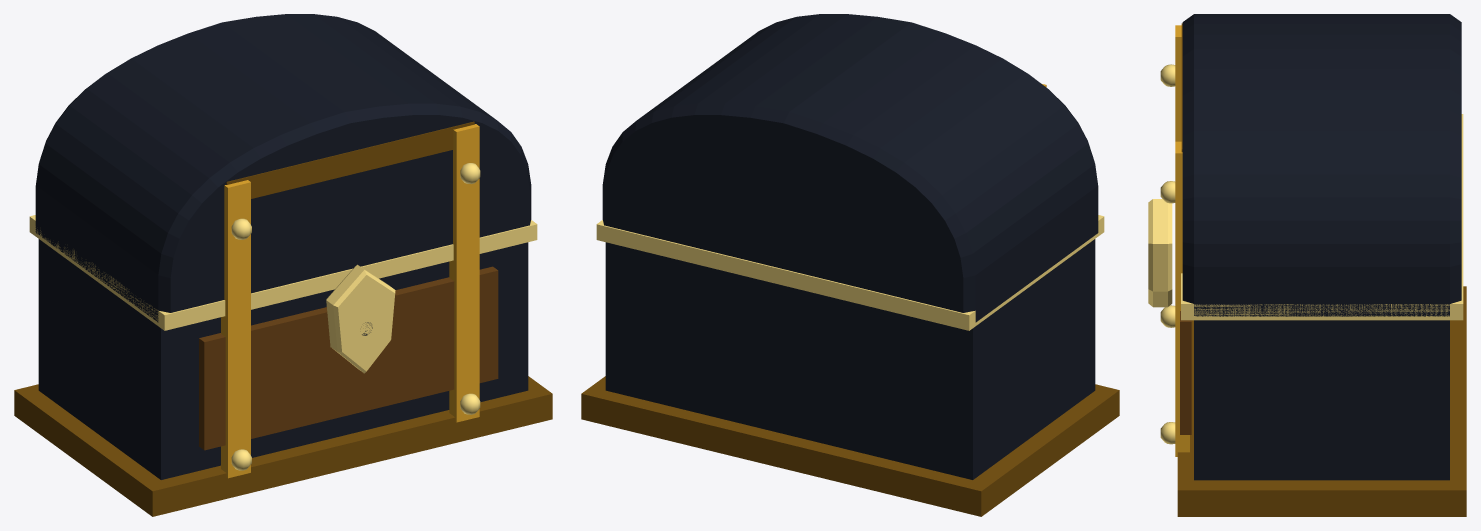
The model's file is reward-chest-low.glb.
3 renders of one model, left to right at view 1: azimuth 30°, elevation 25°; view 2: azimuth 150°, elevation 25°; view 3: azimuth 270°, elevation 25°, orthographic. The views are drawn at different scales.
Visible parts, largest first — view 1: Genuine extruded arched lid, Rectangular chest base, Inset front panel, Low gold chest plinth, Right vertical gold strap, Left vertical gold strap, Lid and box gold seam, Blank shield-shaped chest latch, Raised lid panel; view 2: Genuine extruded arched lid, Rectangular chest base, Low gold chest plinth, Lid and box gold seam; view 3: Genuine extruded arched lid, Rectangular chest base, Low gold chest plinth, Lid and box gold seam, Blank shield-shaped chest latch, Right vertical gold strap, Inset front panel, Left vertical gold strap.
Boxes of the visible parts, x1=… form: Genuine extruded arched lid: x1=35, y1=14, x2=531, y2=322; Rectangular chest base: x1=38, y1=239, x2=528, y2=479; Inset front panel: x1=199, y1=266, x2=498, y2=450; Low gold chest plinth: x1=14, y1=376, x2=552, y2=516; Right vertical gold strap: x1=449, y1=124, x2=479, y2=422; Left vertical gold strap: x1=221, y1=180, x2=250, y2=478; Lid and box gold seam: x1=29, y1=215, x2=537, y2=330; Blank shield-shaped chest latch: x1=326, y1=264, x2=395, y2=373; Raised lid panel: x1=226, y1=121, x2=474, y2=198; Genuine extruded arched lid: x1=602, y1=14, x2=1098, y2=322; Rectangular chest base: x1=605, y1=239, x2=1095, y2=479; Low gold chest plinth: x1=581, y1=376, x2=1119, y2=516; Lid and box gold seam: x1=596, y1=215, x2=1104, y2=330; Genuine extruded arched lid: x1=1182, y1=14, x2=1461, y2=316; Rectangular chest base: x1=1194, y1=320, x2=1449, y2=480; Low gold chest plinth: x1=1177, y1=286, x2=1466, y2=516; Lid and box gold seam: x1=1181, y1=114, x2=1463, y2=320; Blank shield-shaped chest latch: x1=1148, y1=199, x2=1172, y2=307; Right vertical gold strap: x1=1175, y1=141, x2=1189, y2=456; Inset front panel: x1=1180, y1=311, x2=1191, y2=434; Left vertical gold strap: x1=1175, y1=25, x2=1181, y2=141.
Size of the model in its own units: 1.47 by 1.23 by 0.969.
